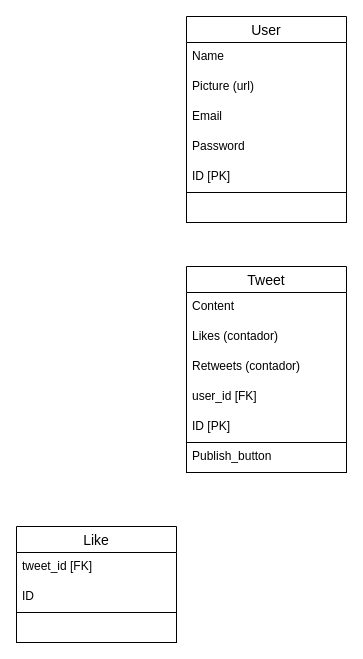
Some shapes in this 363 by 659 pixel diagram are drawn without their labels. The centre of each missing label's shape, as x and y in pixels:
Follow_button: pixel 266 207
Like_button: pixel 96 627
